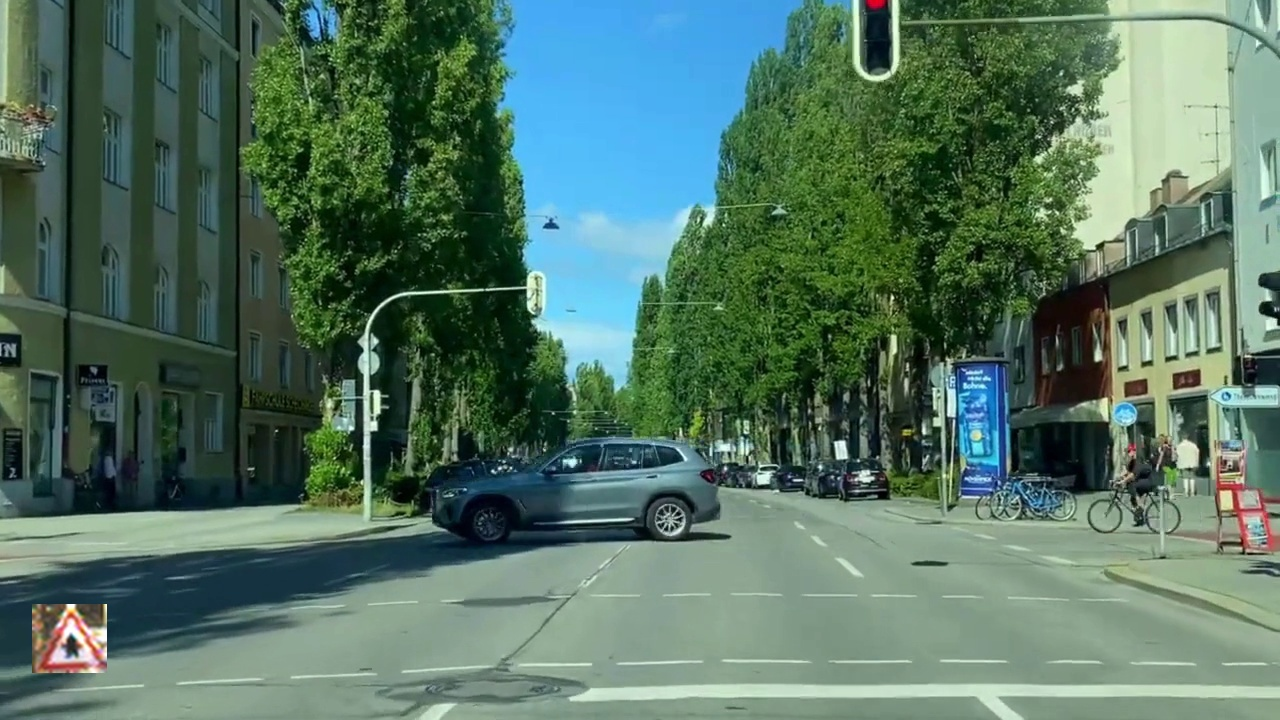Right-of-way: (32, 604, 107, 673)
